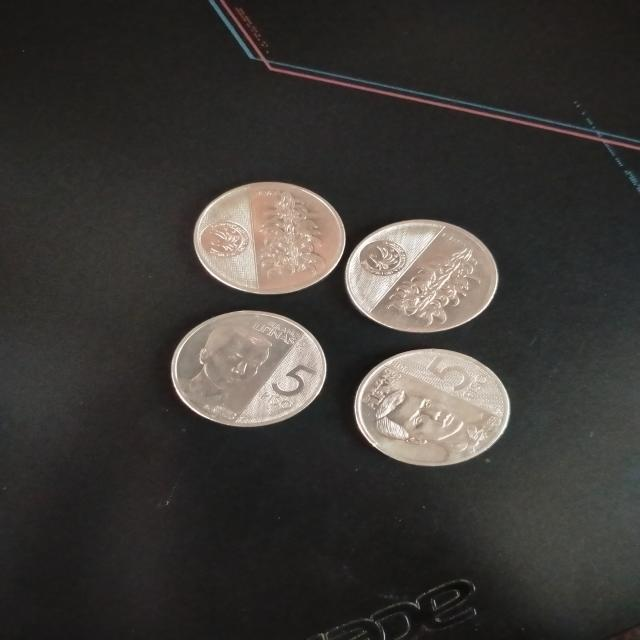5_New_Back: (392, 233, 493, 331), (250, 186, 334, 290)
5_New_Front: (251, 355, 319, 417), (422, 352, 494, 406)
